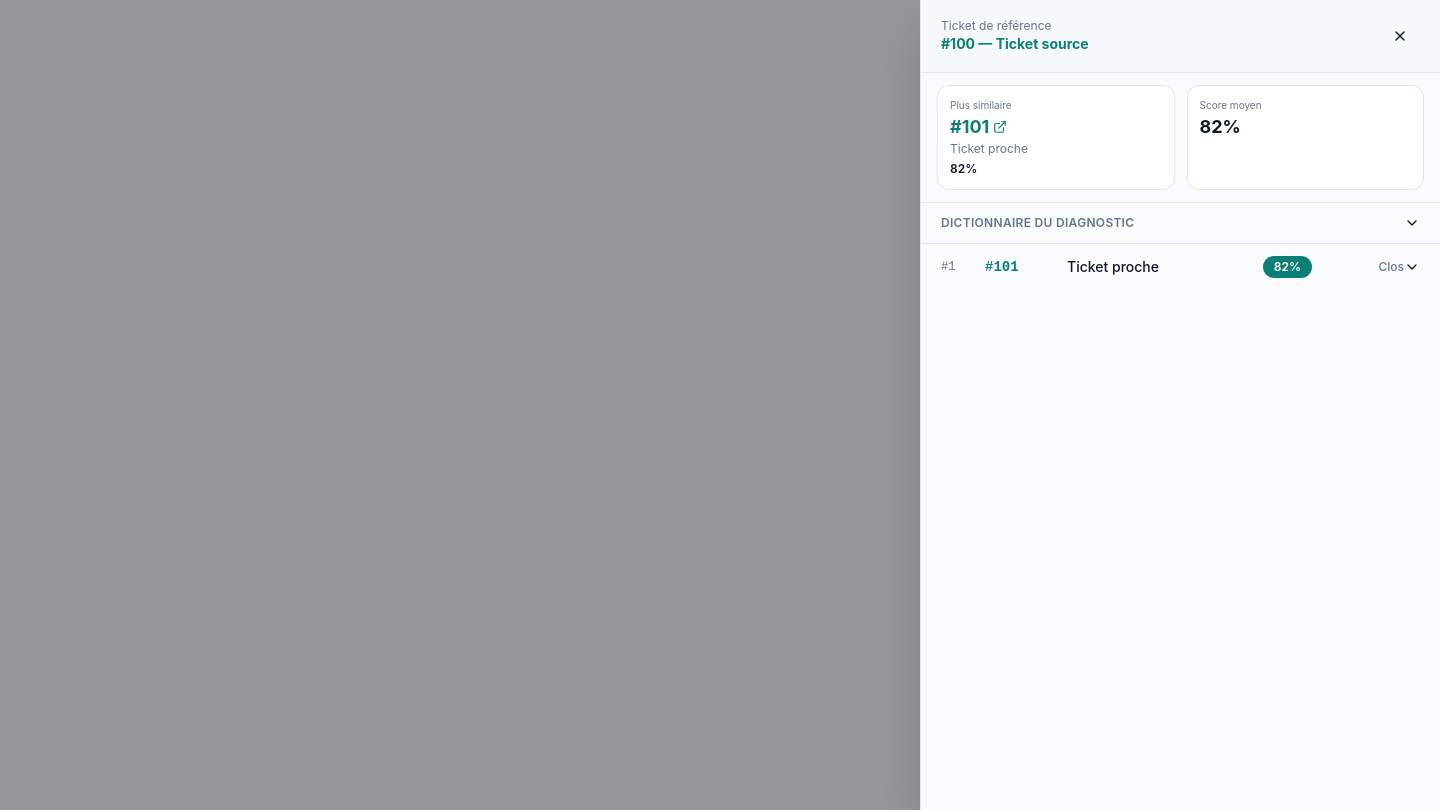
Test: executive interface › renders the similarity diagnostic dictionary
Expected: the text "Dictionnaire du diagnostic" is shown, [941,215,1134,231]
Click the button "Dictionnaire du diagnostic".
click(1038, 222)  # box [921,203,1439,243]
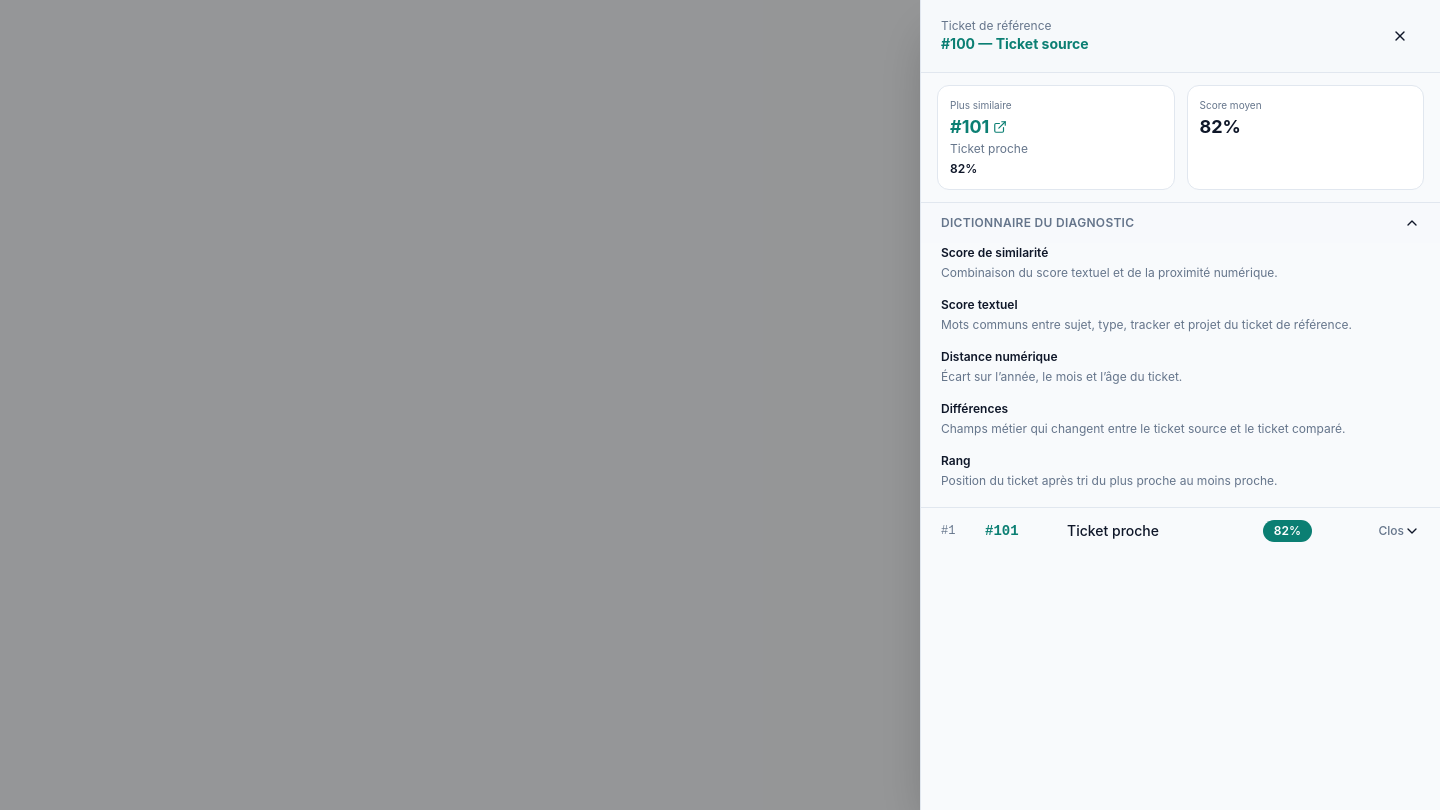
Expected: the text "Score textuel" is shown, [941,297,1018,312]
Expected: the text "Distance numérique" is shown, [941,349,1058,364]
Click the button "#1 #101 Ticket proche 82% Clos".
click(1113, 530)  # box [921,508,1439,554]
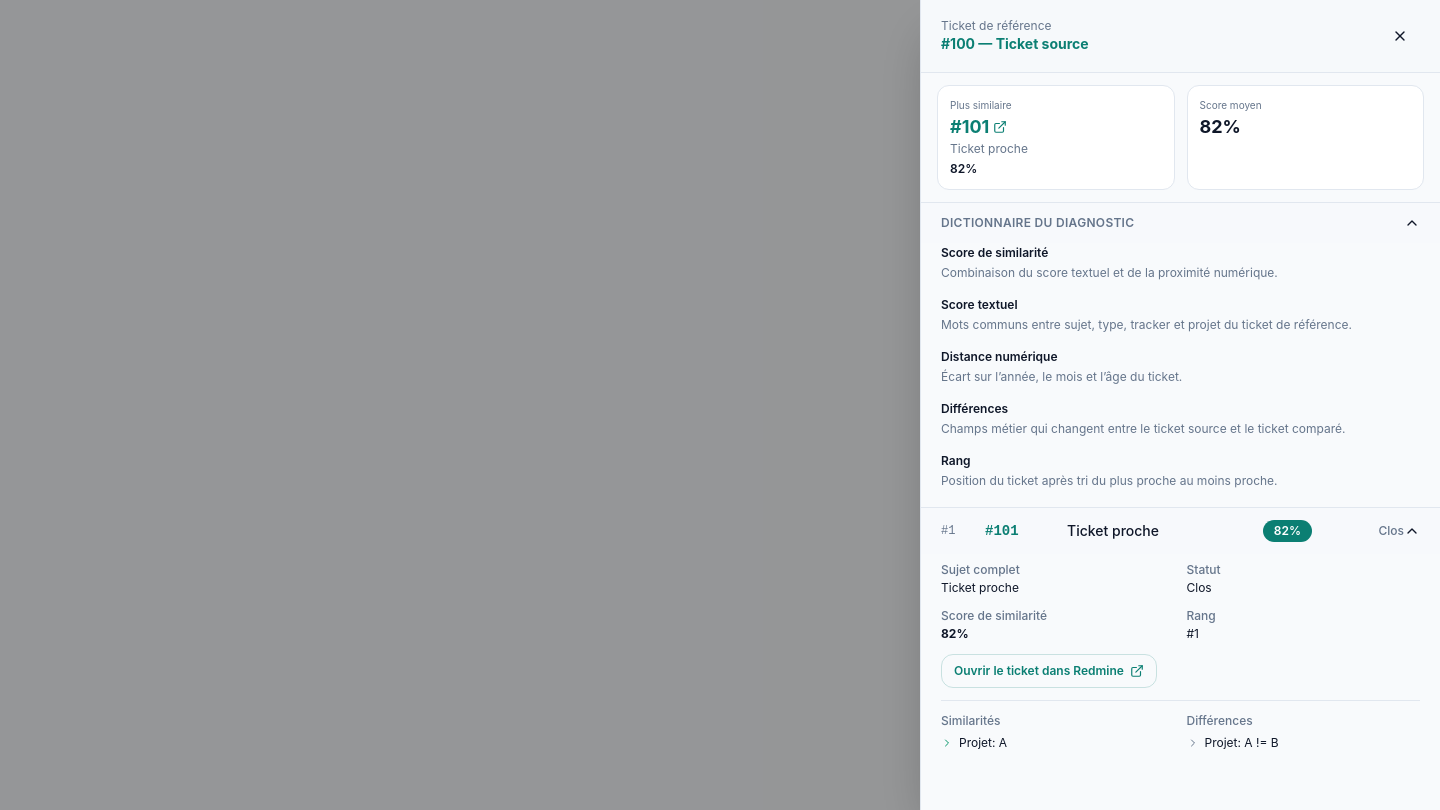
Expected: the text "Similarités" is shown, [941,713,1000,728]
Expected: the text "Projet: A" is shown, [959,735,1007,751]
